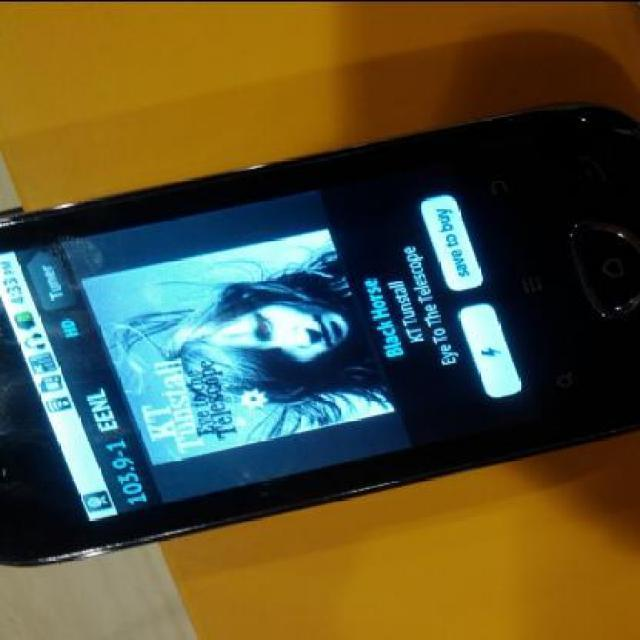phone: (9, 95, 633, 559)
